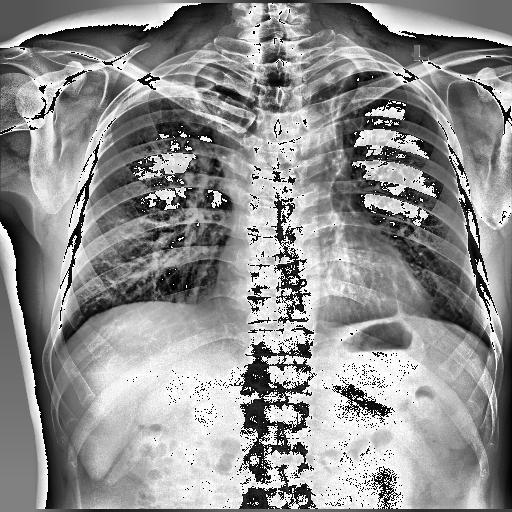0- Aortic enlargement: (274, 100, 332, 172)
10- Pleural effusion: (48, 333, 77, 360)
11- Pleural thickening: (127, 62, 253, 102), (320, 56, 430, 95), (140, 78, 219, 92), (388, 70, 426, 98), (48, 333, 77, 360)
13- Pulmonary fibrosis: (328, 65, 366, 188), (326, 76, 362, 178), (327, 72, 350, 158), (192, 72, 218, 94)
3- Cardiomegaly: (212, 267, 433, 336)
7- Lung Opacity: (140, 78, 219, 92), (192, 72, 218, 94)
